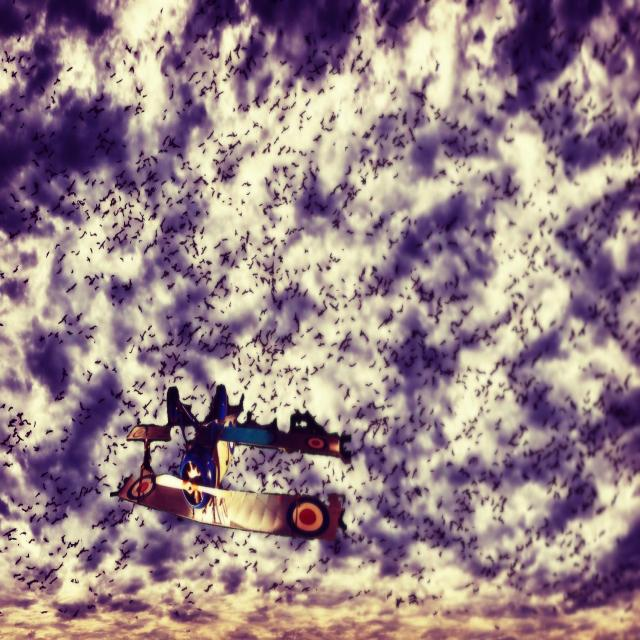airplane: (110, 383, 352, 542)
